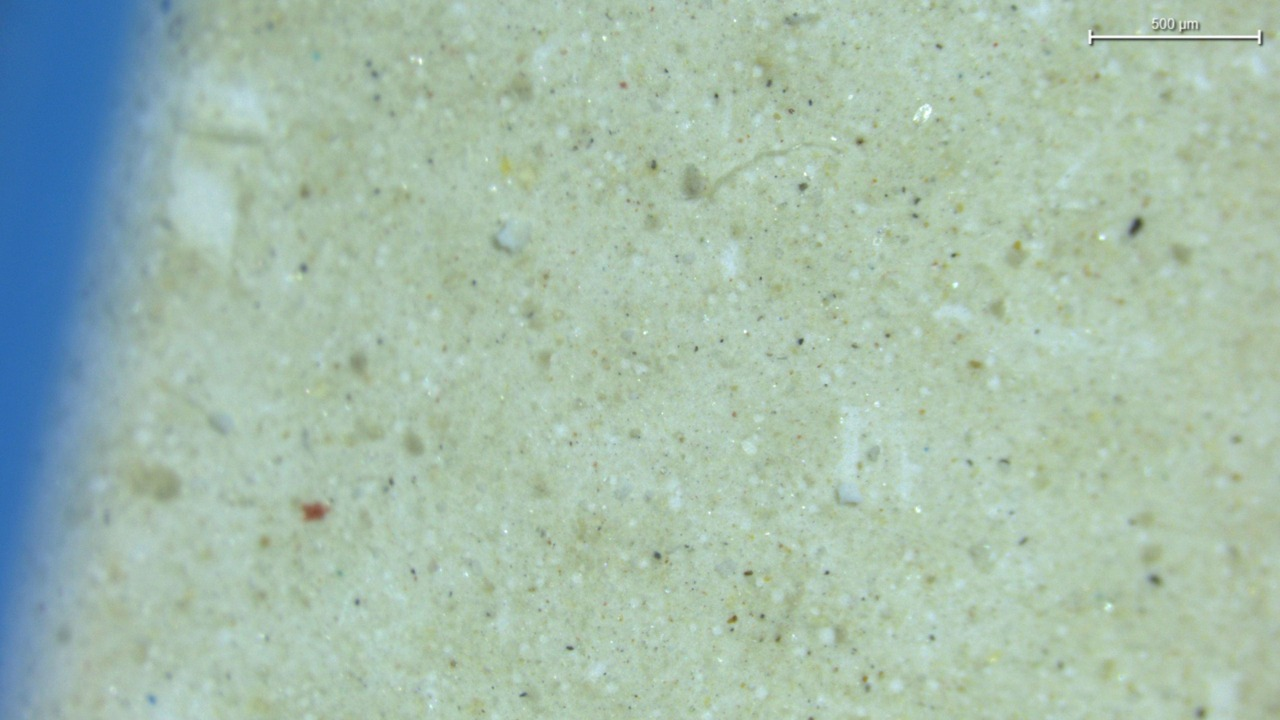microplastic_fragment: (494, 219, 531, 253), (838, 483, 862, 504)
